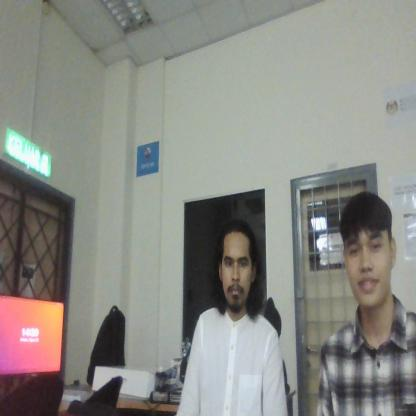Open-Eyes: (342, 228, 392, 262), (220, 250, 252, 272)
